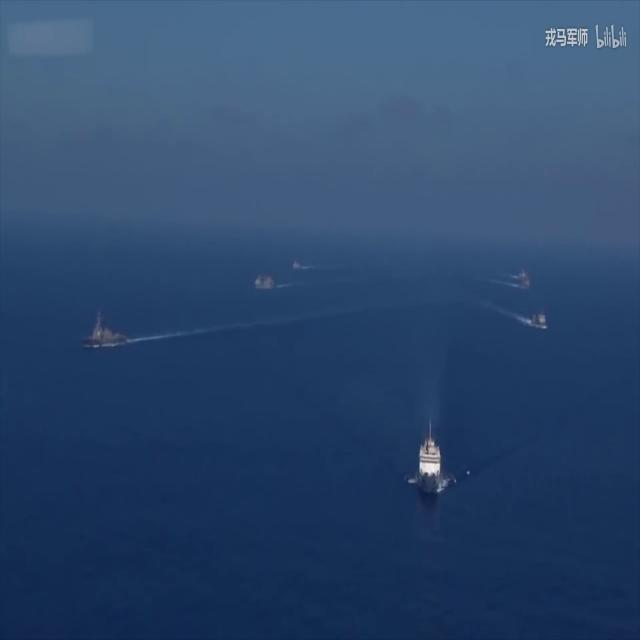navalvessels: (416, 416, 440, 489), (86, 313, 124, 349), (516, 263, 534, 292), (528, 310, 548, 330), (256, 272, 274, 293), (293, 255, 305, 274)
